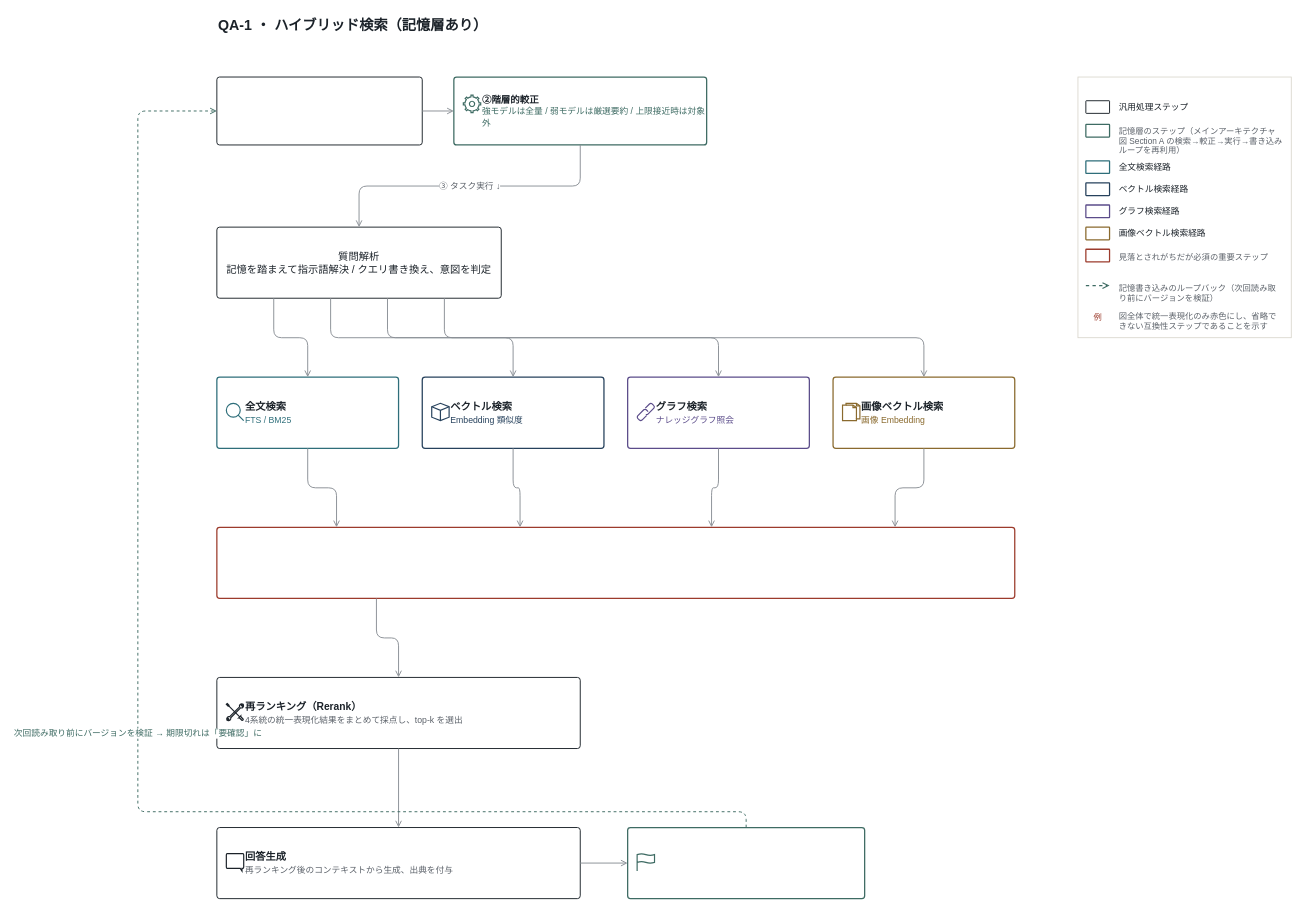
Some shapes in this 1305 by 912 pixel diagram are drawn without their labels. Each missing label, with the box of its shape:
①記憶ストアを検索 user_id / project_id 単位で履歴対話 + 解析済みエンティティ/結論を取得: (216, 76, 422, 145)
④主張を書き込み 今回の一問一答 + 引用根拠、上書きせず追記、バージョン番号付き: (627, 826, 865, 899)
凡例: (1077, 76, 1291, 338)
統一表現化 異なるモダリティの結果は先にテキストへ統一しないと再ランキングに進めない——グラフの部分グラフ→自然文記述、画像→キャプション/OCR テキスト: (216, 526, 1015, 599)
